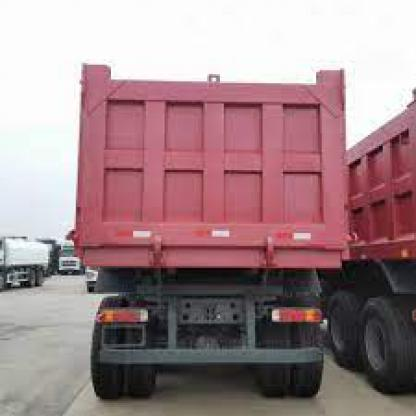lorry: (76, 61, 349, 399), (2, 235, 55, 288)
